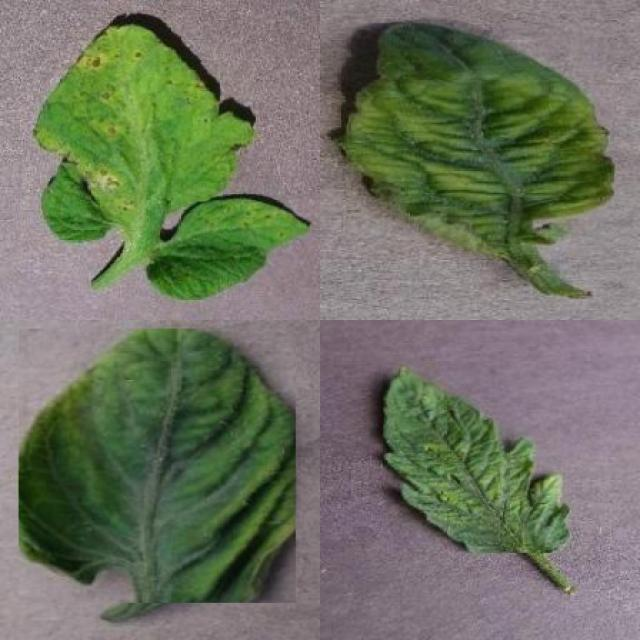Mosaic Virus: (383, 361, 571, 553)
Septoria: (34, 22, 256, 240), (146, 194, 311, 300)
Yellow Leaf Curl Virus: (18, 329, 296, 604), (345, 22, 615, 254)
